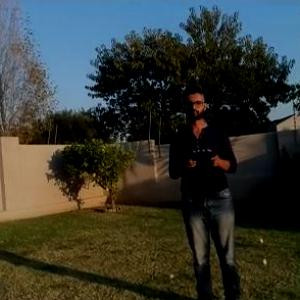follow: (163, 79, 246, 299)
